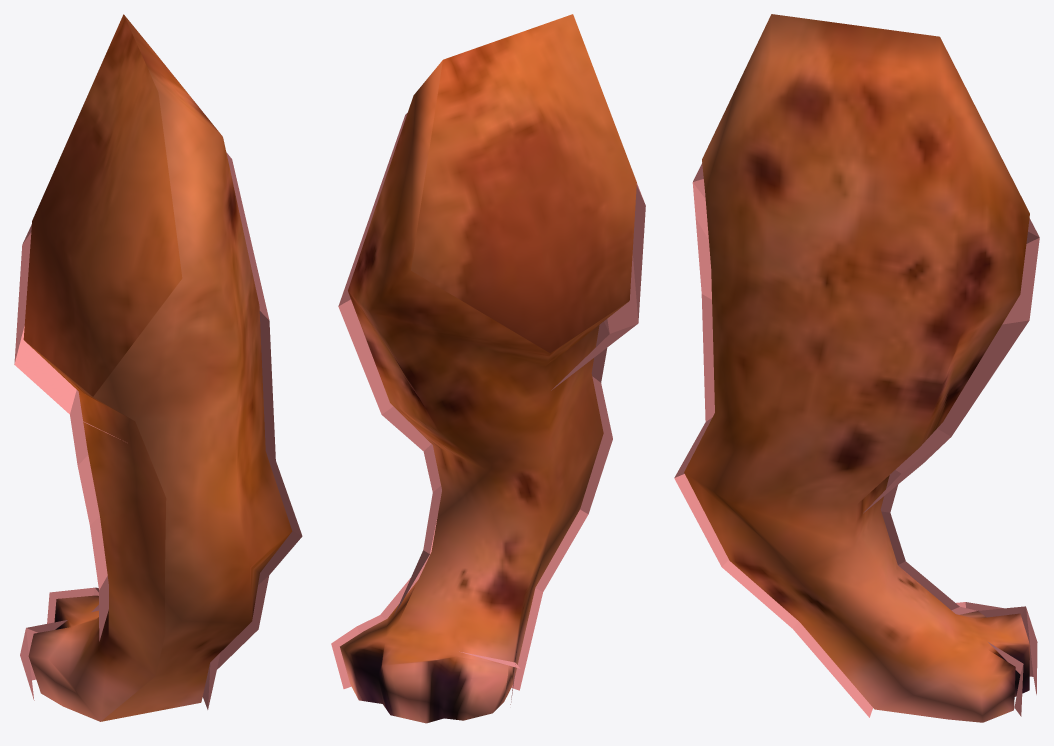
The model's file is entity842190.gltf.
3 renders of one model, left to right at view 1: azimuth 30°, elevation 25°; view 2: azimuth 150°, elevation 25°; view 3: azimuth 270°, elevation 25°, orthographic. The views are drawn at different scales.
Visible parts, largest first — view 1: node_mesh_mountain_cat_05; view 2: node_mesh_mountain_cat_05; view 3: node_mesh_mountain_cat_05.
Part boxes in pixels (bbox=[...]): node_mesh_mountain_cat_05: bbox=[14, 14, 302, 721]; node_mesh_mountain_cat_05: bbox=[331, 14, 645, 723]; node_mesh_mountain_cat_05: bbox=[674, 14, 1039, 722].
Size of the model in its own units: 0.2036 by 0.5809 by 0.2911.
